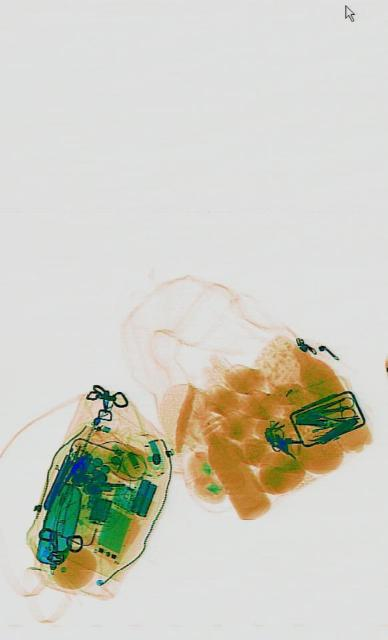Scissors: (307, 391, 356, 434)
